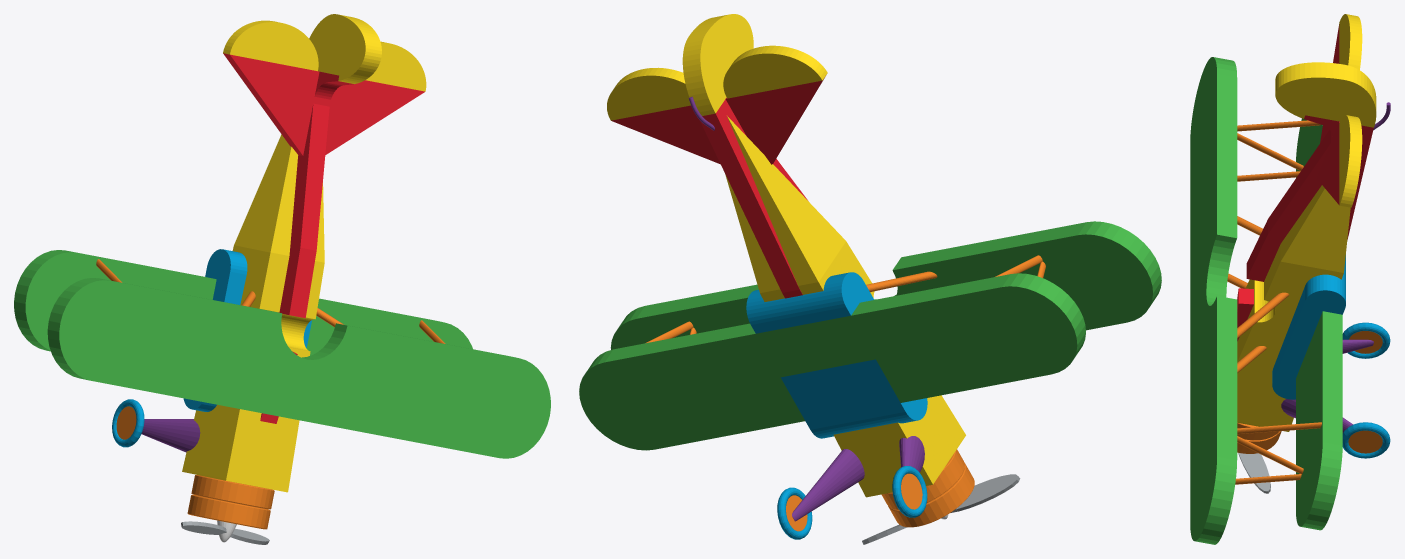
The model's file is tinker.obj.
3 views of the same model, side by side, from view 1: azimuth 30°, elevation 25°; view 2: azimuth 150°, elevation 25°; view 3: azimuth 270°, elevation 25° (orthographic). The views are drawn at different scales.
Parts seen in each view (by area): view 1: group_0_4634441, group_0_16768282, group_0_15277357, group_0_16089887, group_0_40919, group_0_8273816, group_0_10988977; view 2: group_0_4634441, group_0_16768282, group_0_40919, group_0_15277357, group_0_16089887, group_0_8273816, group_0_10988977; view 3: group_0_4634441, group_0_16768282, group_0_15277357, group_0_16089887, group_0_40919, group_0_8273816, group_0_10988977.
Part boxes in pixels (<box>): group_0_4634441: <box>14,250,550,458</box>; group_0_16768282: <box>182,14,426,492</box>; group_0_15277357: <box>223,53,424,423</box>; group_0_16089887: <box>96,259,445,529</box>; group_0_40919: <box>112,249,311,447</box>; group_0_8273816: <box>141,419,200,452</box>; group_0_10988977: <box>181,521,269,544</box>; group_0_4634441: <box>579,221,1161,450</box>; group_0_16768282: <box>607,14,965,497</box>; group_0_40919: <box>746,272,927,539</box>; group_0_15277357: <box>611,76,825,298</box>; group_0_16089887: <box>645,255,1045,531</box>; group_0_8273816: <box>688,96,924,521</box>; group_0_10988977: <box>862,474,1020,544</box>; group_0_4634441: <box>1190,57,1342,544</box>; group_0_16768282: <box>1237,14,1376,431</box>; group_0_15277357: <box>1237,24,1373,341</box>; group_0_16089887: <box>1227,120,1382,484</box>; group_0_40919: <box>1272,255,1390,458</box>; group_0_8273816: <box>1281,102,1390,432</box>; group_0_10988977: <box>1238,452,1270,493</box>.
Bounding box in the file's own units: 141 × 130 × 48.31.
